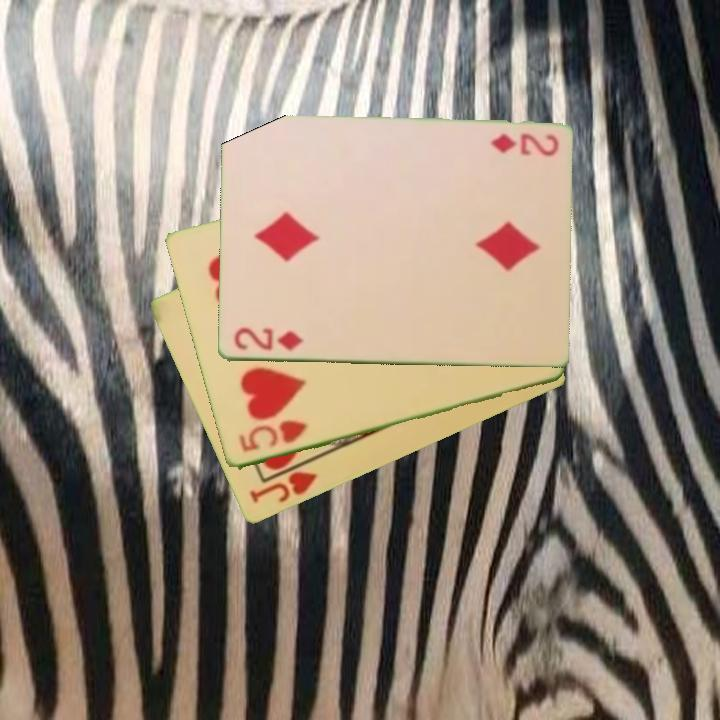2d: (230, 325, 306, 354), (487, 130, 561, 158)
5h: (235, 417, 310, 456)
Jh: (245, 455, 320, 507)
